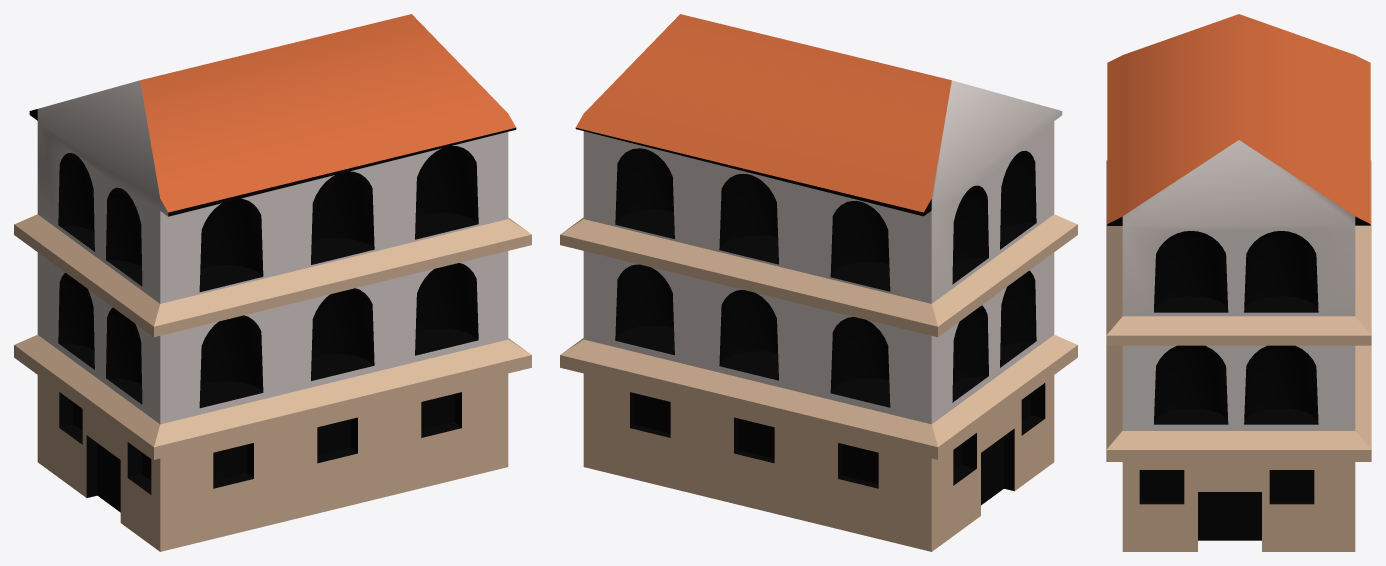
The model's file is ItalyBuilding2.FBX.
3 renders of one model, left to right at view 1: azimuth 30°, elevation 25°; view 2: azimuth 150°, elevation 25°; view 3: azimuth 270°, elevation 25°, orthographic. The views are drawn at different scales.
Parts seen in each view (by area): view 1: Box001; view 2: Box001; view 3: Box001.
Part boxes in pixels (x1,y1,x2,y2): Box001: (14,14,531,551); Box001: (560,14,1077,551); Box001: (1106,14,1371,551).
Bounding box in the file's own units: 64.61 × 68.1 × 41.4.
1 material, 1 textured.
